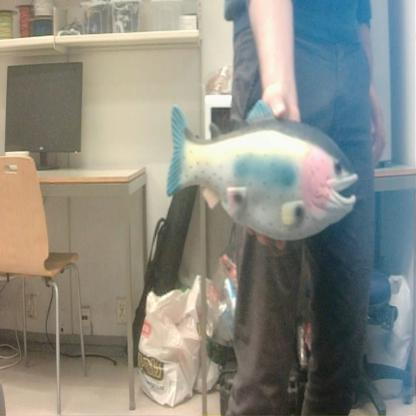rubberfish: (162, 91, 362, 248)
